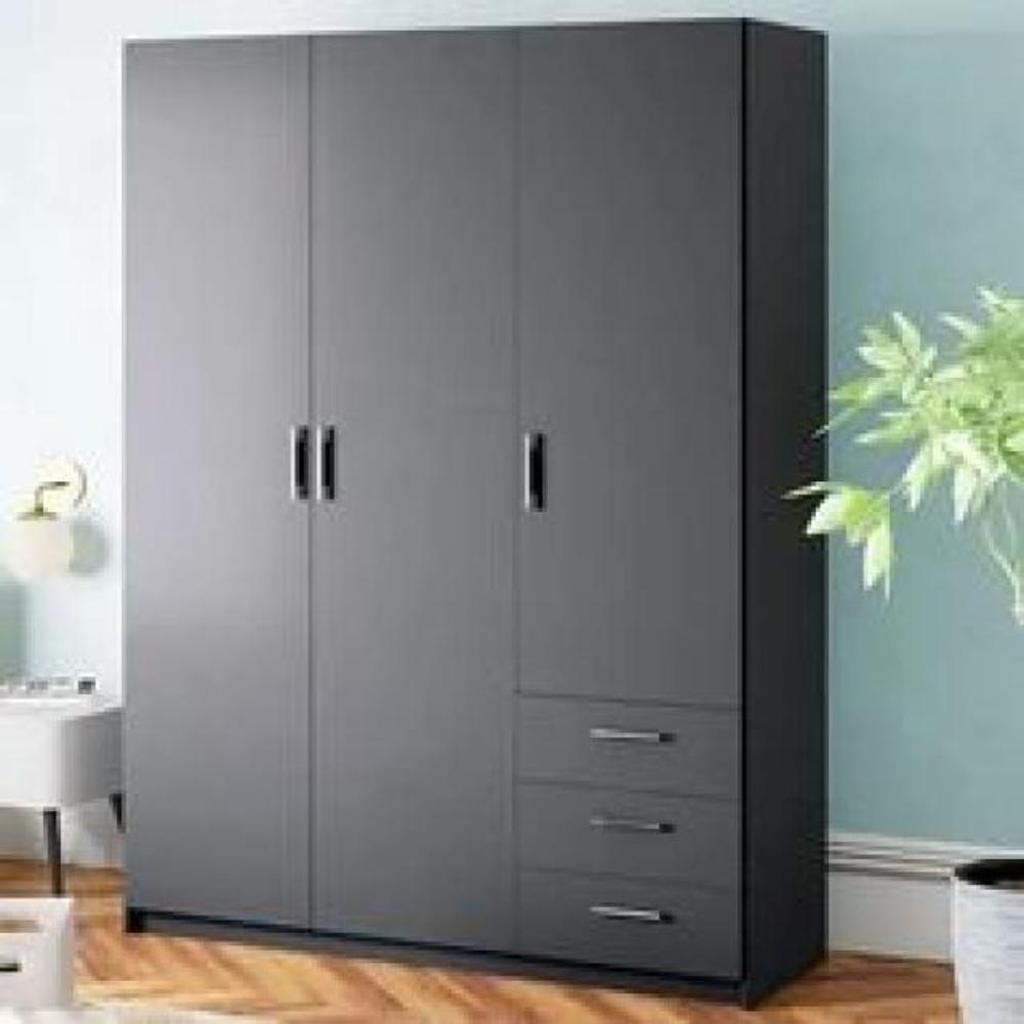cabinet: (122, 15, 832, 1014)
